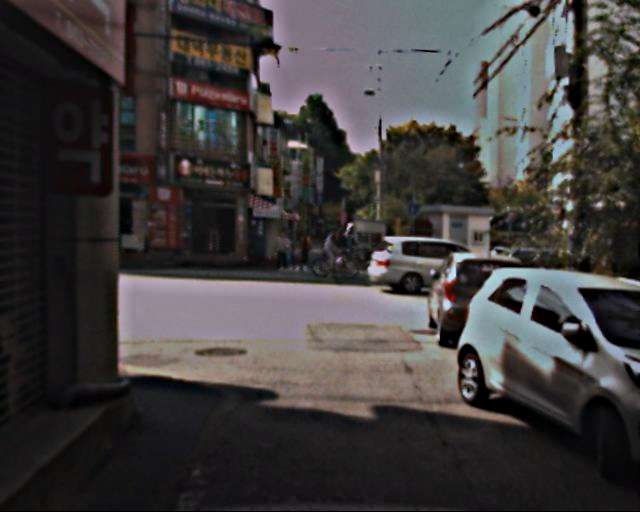person: (319, 225, 362, 273), (273, 225, 291, 270), (299, 229, 315, 269)
